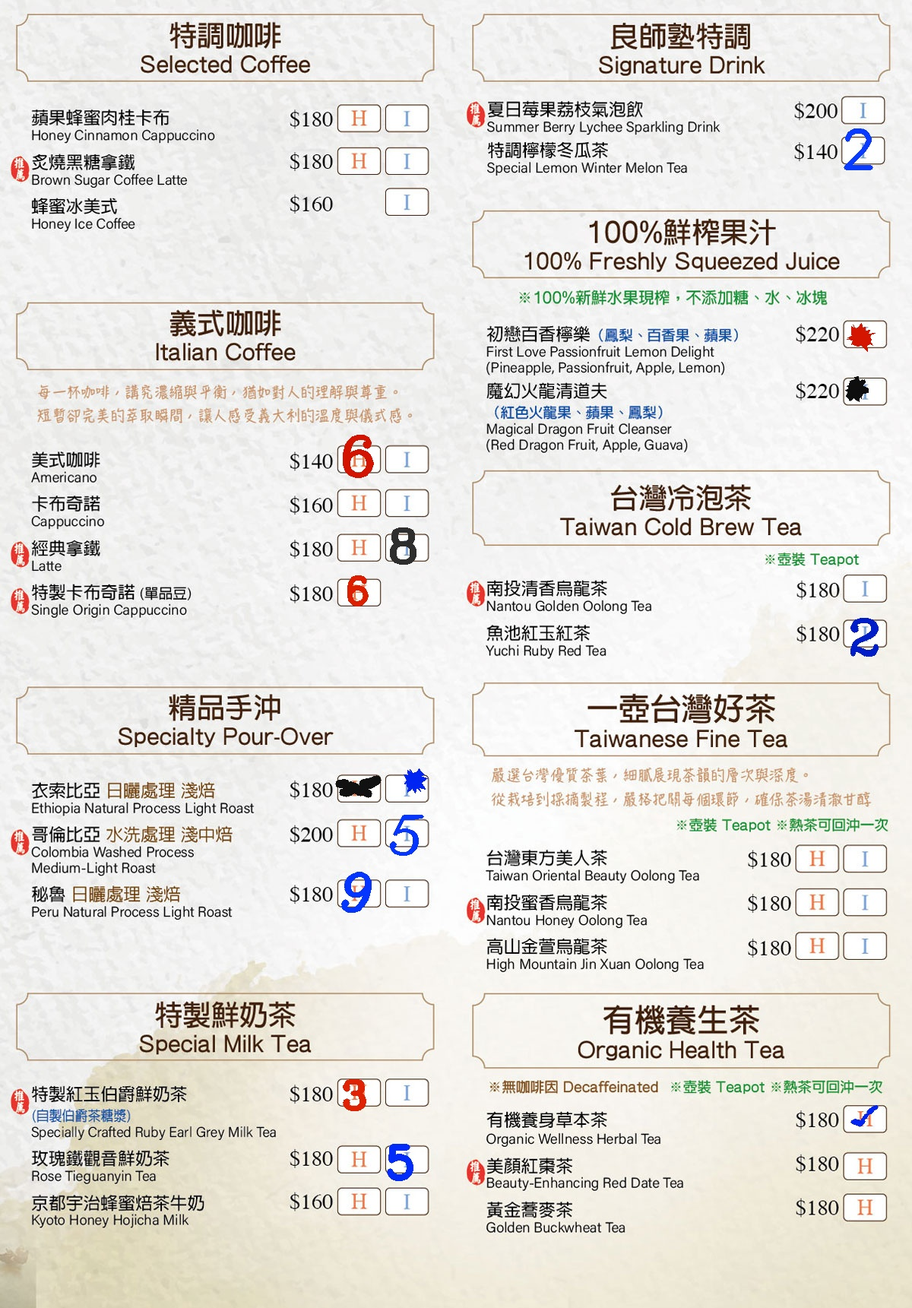marked_circle: (845, 378, 884, 402), (845, 321, 884, 345), (387, 775, 426, 799)
marked_number_2: (845, 622, 884, 646), (842, 138, 881, 162)
marked_number_3: (342, 1080, 381, 1104)
marked_number_5: (385, 822, 424, 845), (388, 1148, 426, 1171)
marked_number_6: (339, 579, 378, 603), (340, 447, 378, 470)
marked_number_8: (388, 535, 426, 559)
marked_number_9: (338, 879, 377, 903)
marked_tick: (846, 1106, 885, 1129)
marked_x: (339, 776, 378, 800)
